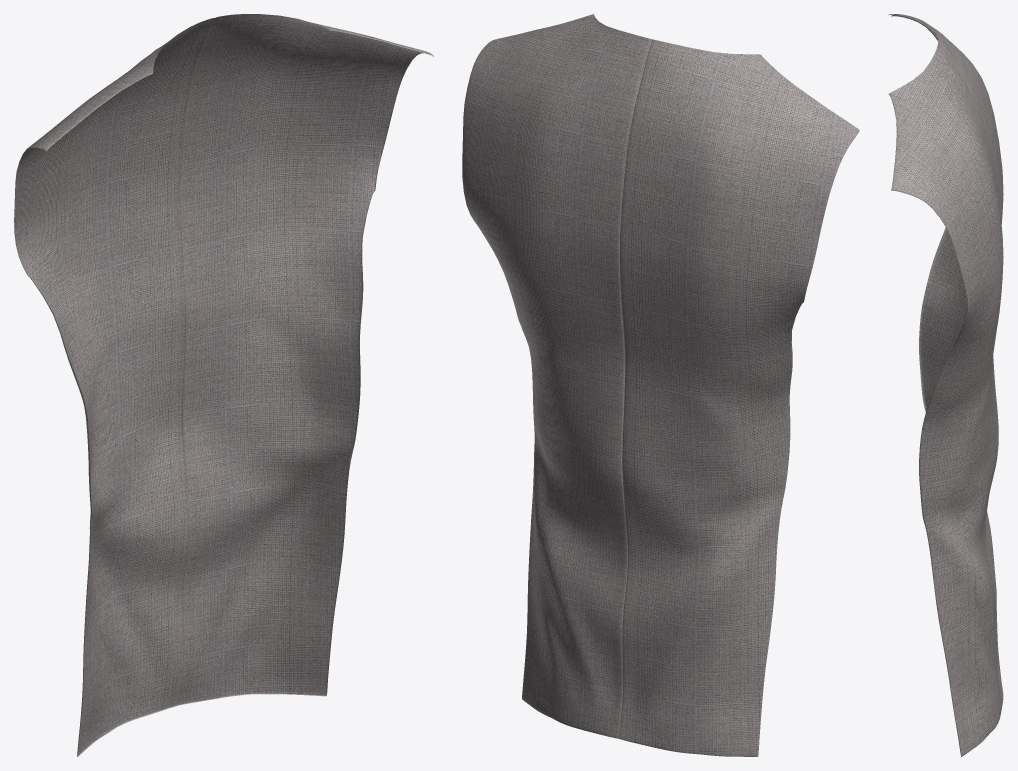
The model's file is Double_vent.glb.
The picture shows the model from 3 angles, left to right: view 1: azimuth 30°, elevation 25°; view 2: azimuth 150°, elevation 25°; view 3: azimuth 270°, elevation 25°; orthographic projection. The views are drawn at different scales.
Parts seen in each view (by area): view 1: Double_vent; view 2: Double_vent; view 3: Double_vent.
Part boxes in pixels (left/top/right/bottom): Double_vent: left=14, top=14, right=433, bottom=756; Double_vent: left=462, top=14, right=859, bottom=756; Double_vent: left=888, top=14, right=1003, bottom=756.
Bounding box in the file's own units: 0.0591 × 0.1036 × 0.0163.
1 material, 1 textured.
